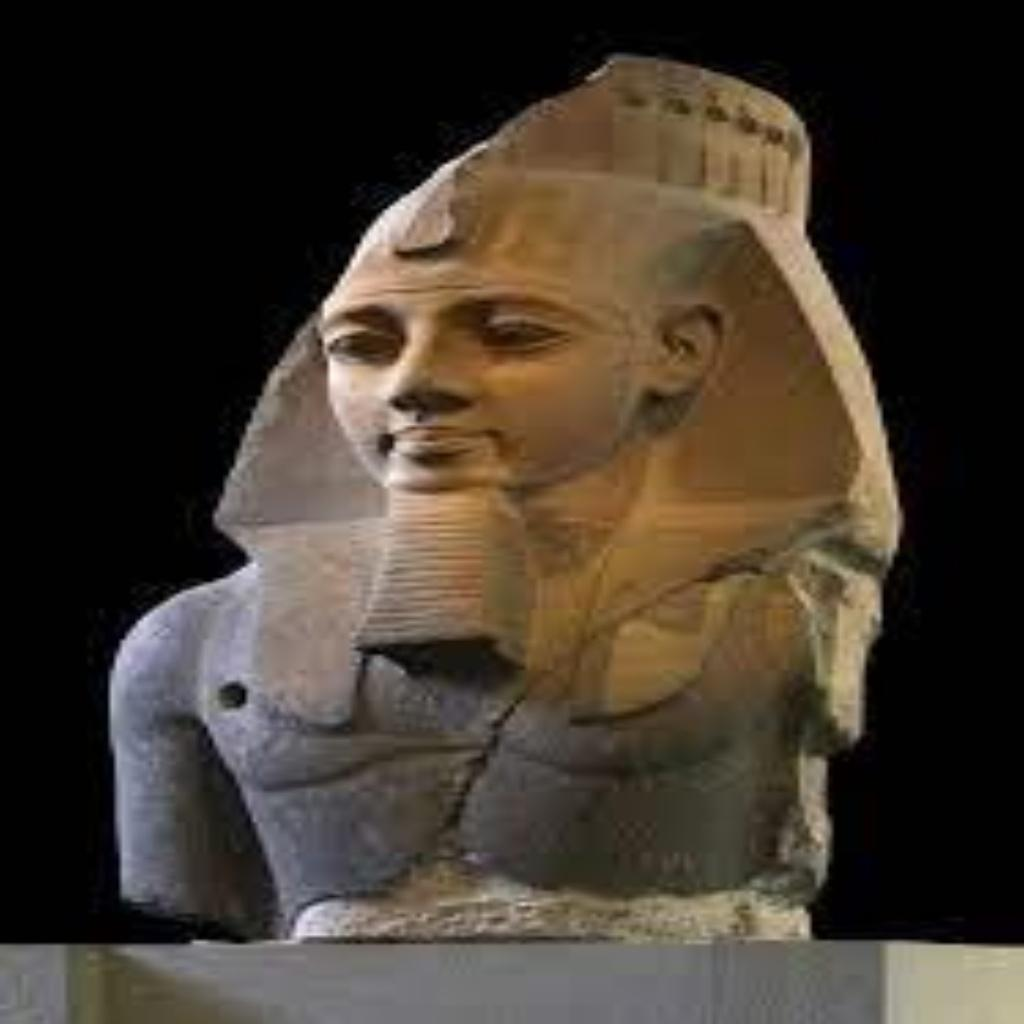bust of Ramesses II: (99, 50, 909, 940)
